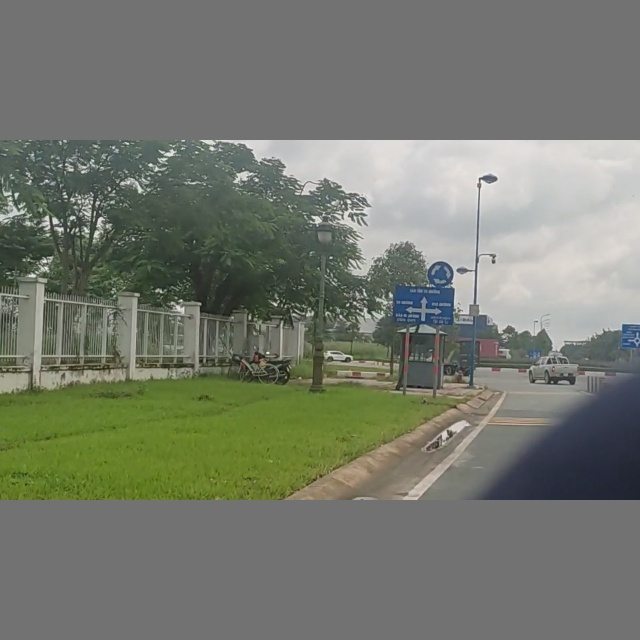R.303: (425, 259, 455, 288)
